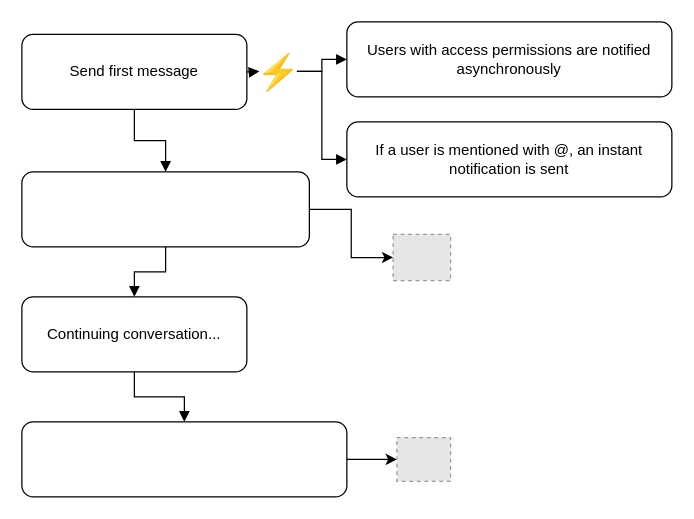
Image size: 694x519. Some labels were removed from this diagram. Grey dashed boxes stand in for pictures. The shapes that lost their labels are listed below. From the top down, each one's centre as x and y in pixels, then its label:
point (165, 209): Discussion topic is marked as open with a red label
point (184, 459): Thread is closed, conversation is marked with a green label
